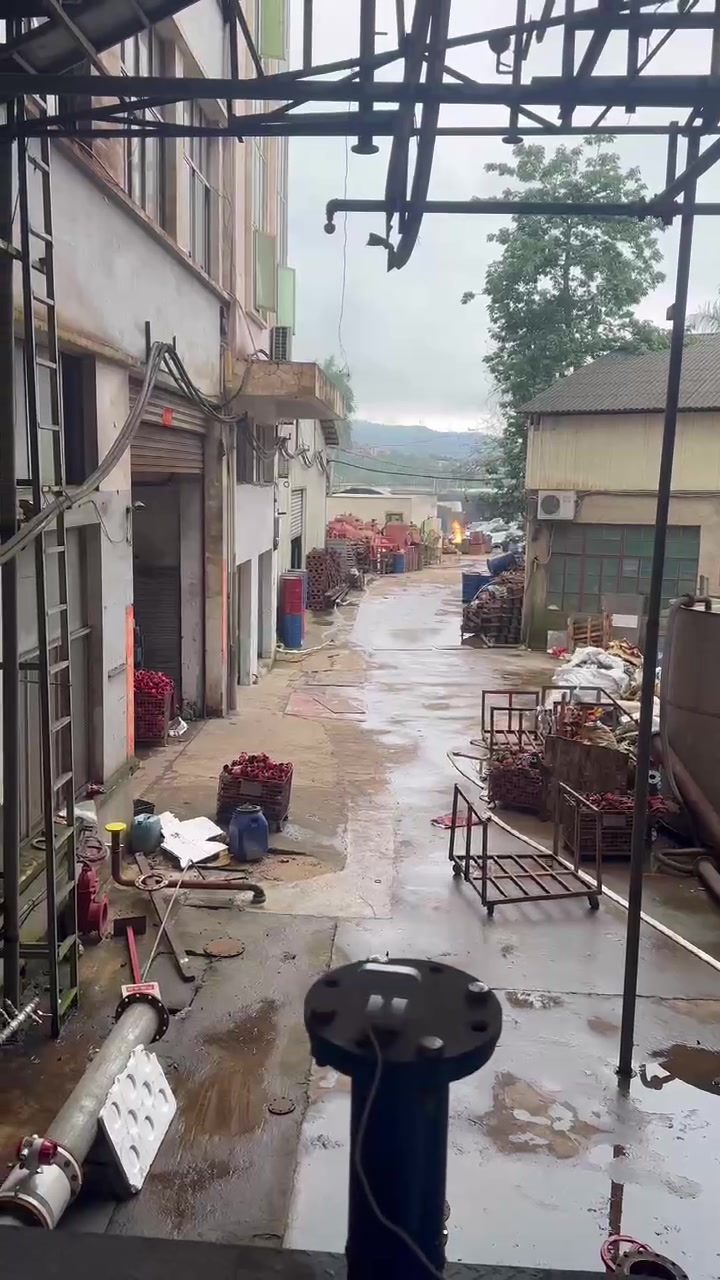fire: (451, 519, 462, 542)
